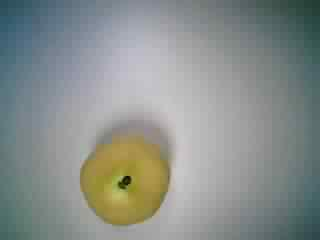pear: (70, 126, 179, 228)
